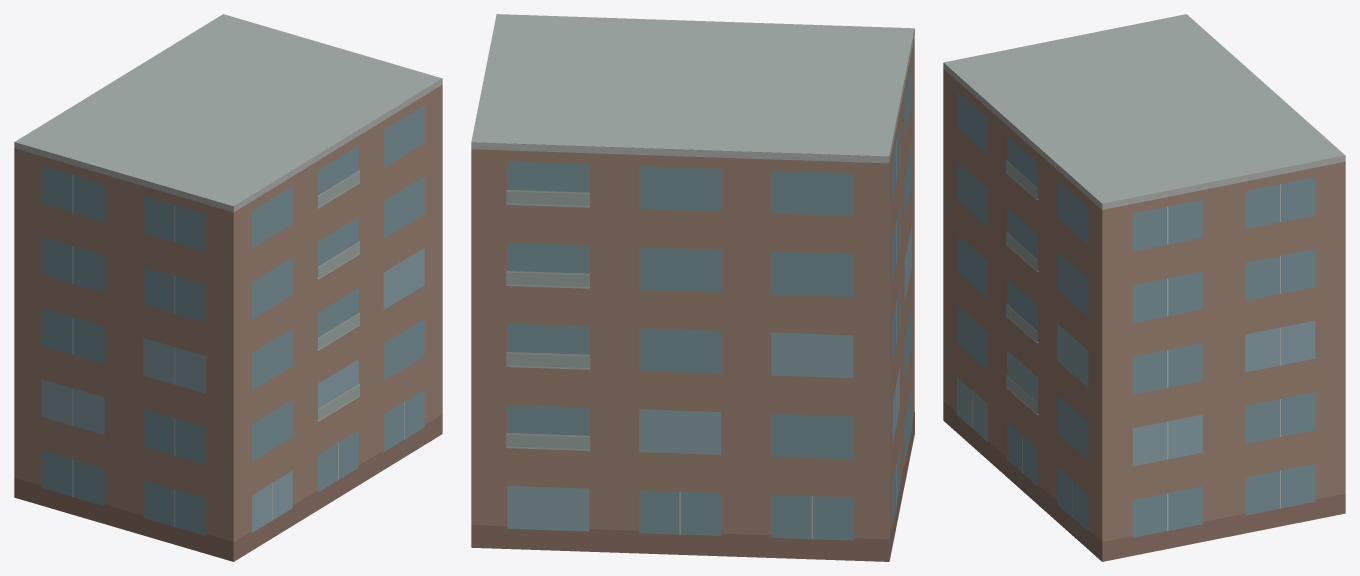
Rendered from survey-upis-33022466.glb.
3 renders of one model, left to right at view 1: azimuth 30°, elevation 25°; view 2: azimuth 150°, elevation 25°; view 3: azimuth 270°, elevation 25°, orthographic. The views are drawn at different scales.
Parts seen in each view (by area): view 1: survey-upis-33022466.tmp; view 2: survey-upis-33022466.tmp; view 3: survey-upis-33022466.tmp.
Part boxes in pixels (<box>): survey-upis-33022466.tmp: <box>14,14,442,561</box>; survey-upis-33022466.tmp: <box>471,14,914,561</box>; survey-upis-33022466.tmp: <box>943,14,1345,561</box>.
Size of the model in its own units: 16.16 by 14.2 by 14.47.
